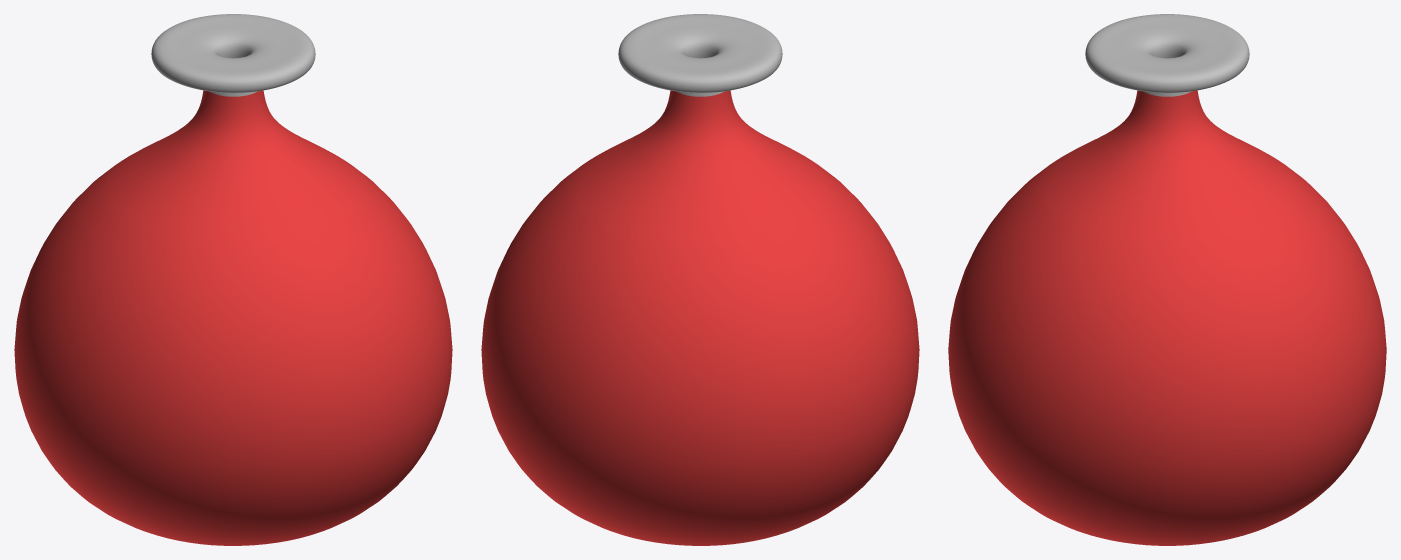
3 renders of one model, left to right at view 1: azimuth 30°, elevation 25°; view 2: azimuth 150°, elevation 25°; view 3: azimuth 270°, elevation 25°, orthographic.
Visible parts, largest first — view 1: Catalonia_Vase; view 2: Catalonia_Vase; view 3: Catalonia_Vase.
Boxes of the visible parts, x1,y1,x2,y2 form: Catalonia_Vase: (14, 14, 452, 545); Catalonia_Vase: (481, 14, 919, 545); Catalonia_Vase: (948, 14, 1386, 545).
Size of the model in its own units: 23.29 by 26.62 by 23.29.
